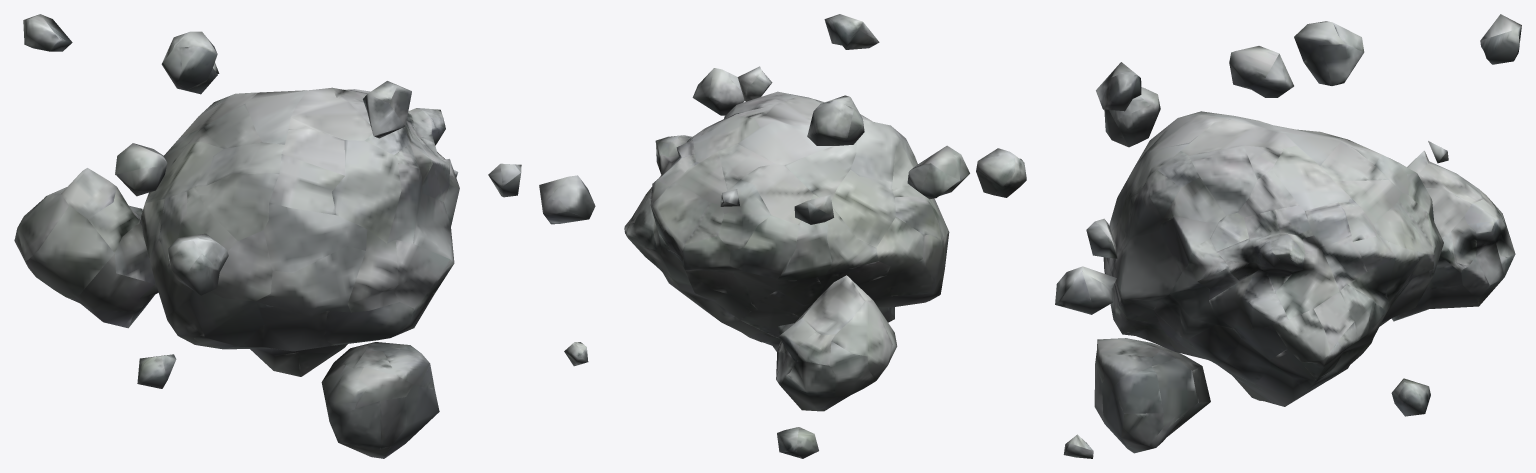
Rendered from asteroid_1.glb.
3 views of the same model, side by side, from view 1: azimuth 30°, elevation 25°; view 2: azimuth 150°, elevation 25°; view 3: azimuth 270°, elevation 25° (orthographic). The views are drawn at different scales.
Size of the model in its own units: 1.96 by 1.82 by 1.97.
1 material, 1 textured.
